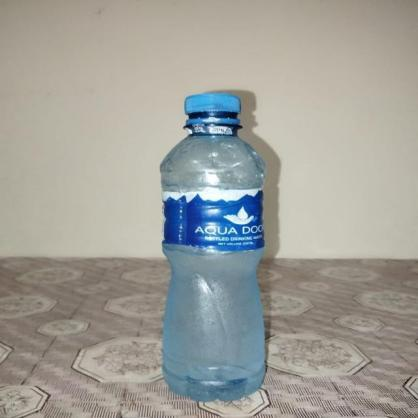bottle: (158, 91, 273, 403)
cap: (179, 93, 250, 130)
label: (158, 188, 271, 253)
